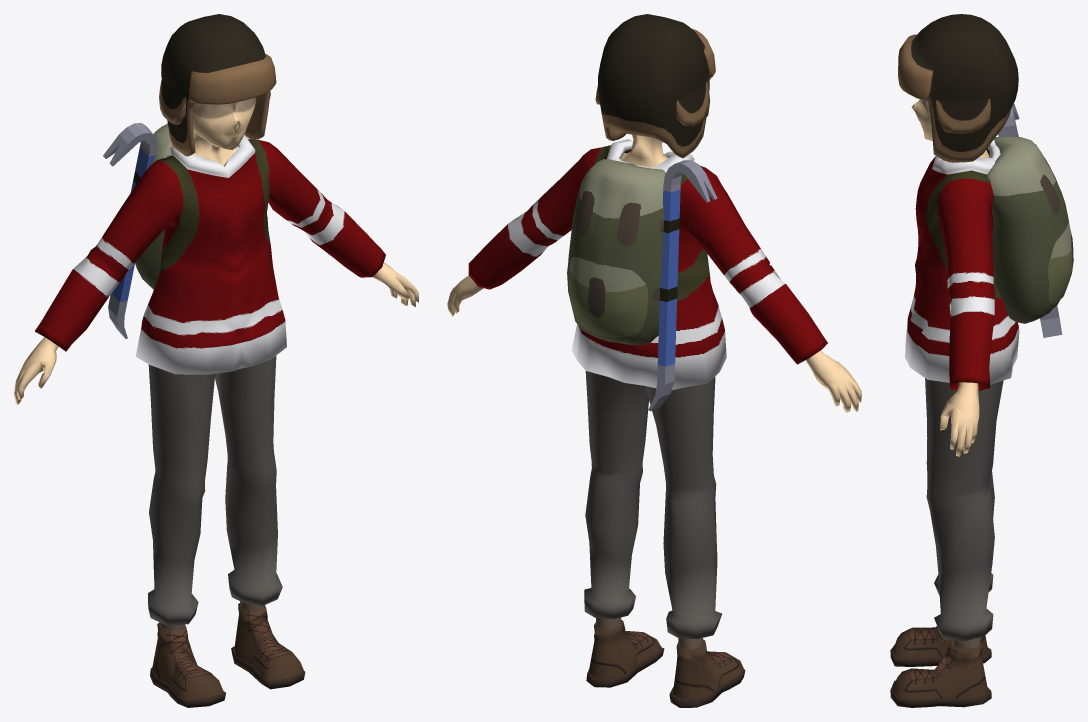
File: new_zach4.glb
The picture shows the model from 3 angles, left to right: view 1: azimuth 30°, elevation 25°; view 2: azimuth 150°, elevation 25°; view 3: azimuth 270°, elevation 25°; orthographic projection. The views are drawn at different scales.
Parts seen in each view (by area): view 1: jacket, Pants, hat, shoes, Base.001, crowbar, backpack; view 2: jacket, Pants, backpack, hat, shoes, crowbar, Base.001; view 3: jacket, Pants, hat, backpack, shoes, Base.001, crowbar.
Part boxes in pixels (x1,y1,x2,y2): jacket: (35, 135, 385, 374); Pants: (148, 356, 282, 625); hat: (159, 14, 276, 156); shoes: (150, 603, 305, 707); Base.001: (14, 97, 418, 630); crowbar: (103, 123, 157, 338); backpack: (135, 123, 194, 289); jacket: (468, 139, 827, 390); Pants: (584, 371, 721, 638); backpack: (567, 159, 665, 345); hat: (595, 14, 715, 158); shoes: (586, 619, 745, 707); crowbar: (648, 160, 717, 411); Base.001: (447, 134, 861, 649); jacket: (905, 139, 1019, 390); Pants: (925, 378, 1003, 641); hat: (898, 14, 1018, 162); backpack: (986, 136, 1073, 323); shoes: (890, 626, 991, 707); Base.001: (911, 99, 989, 648); crowbar: (998, 103, 1062, 337).
Bounding box in the file's own units: 1.13 × 1.76 × 0.4441.
Materials: 8 (8 with a texture image).
